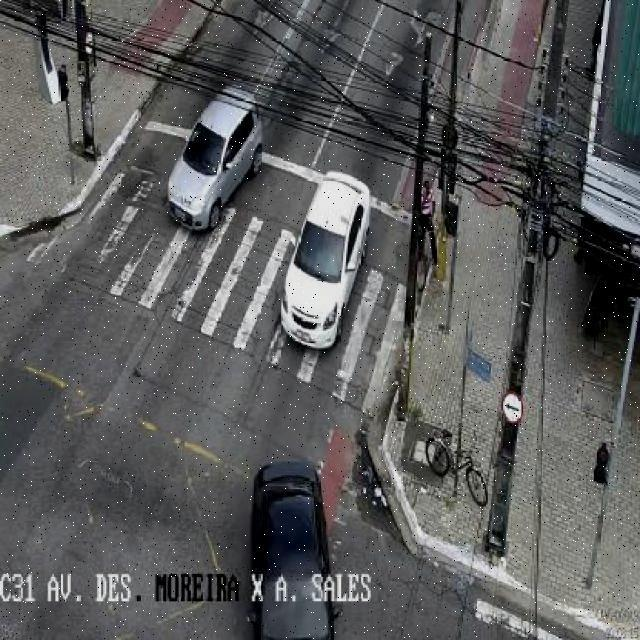Car: (265, 163, 376, 365), (153, 68, 263, 255), (237, 457, 340, 640)
